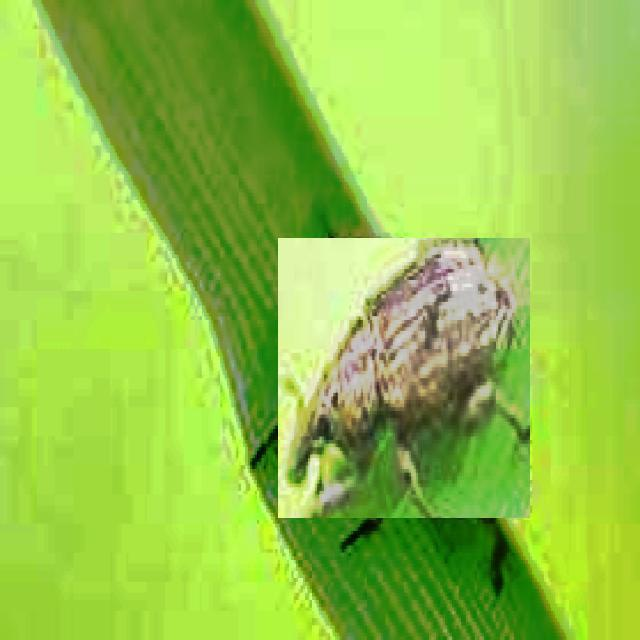rice-bug: (278, 238, 530, 518)
